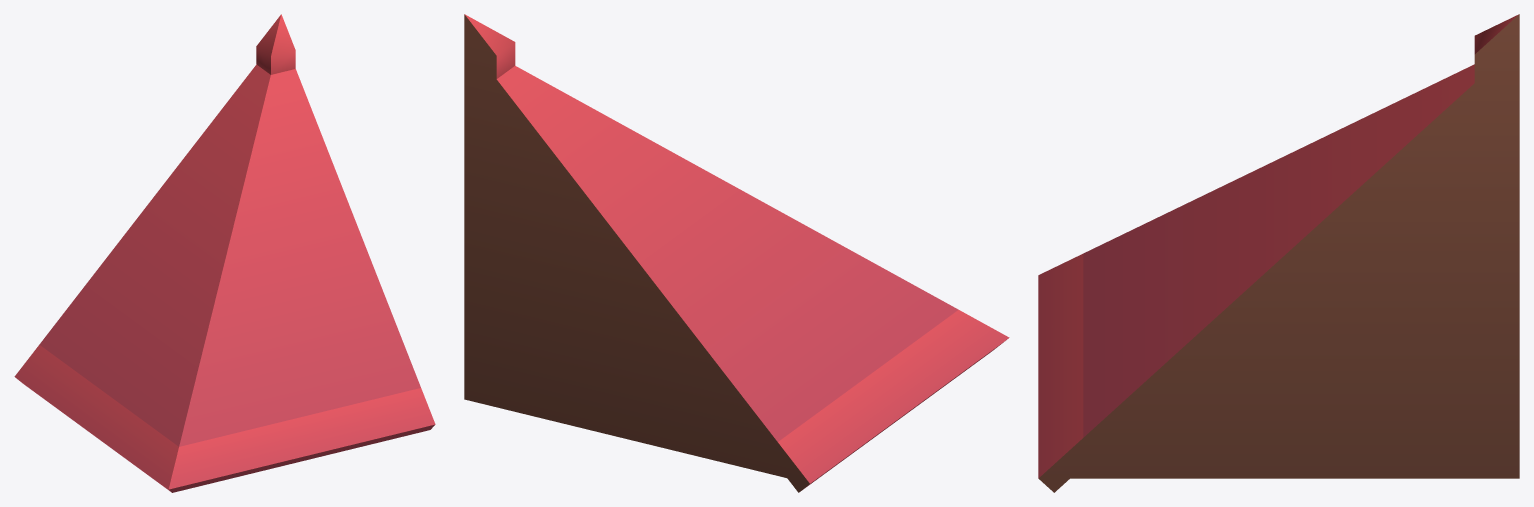
The model's file is roof-kn-roof-high-corner.glb.
The picture shows the model from 3 angles, left to right: view 1: azimuth 30°, elevation 25°; view 2: azimuth 150°, elevation 25°; view 3: azimuth 270°, elevation 25°; orthographic projection. The views are drawn at different scales.
Visible parts, largest first — view 1: roof-high-corner; view 2: roof-high-corner; view 3: roof-high-corner.
Boxes of the visible parts, x1=… form: roof-high-corner: x1=14, y1=14, x2=435, y2=492; roof-high-corner: x1=464, y1=14, x2=1009, y2=492; roof-high-corner: x1=1038, y1=14, x2=1519, y2=492.
Bounding box in the file's own units: 3.21 × 3.53 × 3.21.
1 material, 1 textured.
